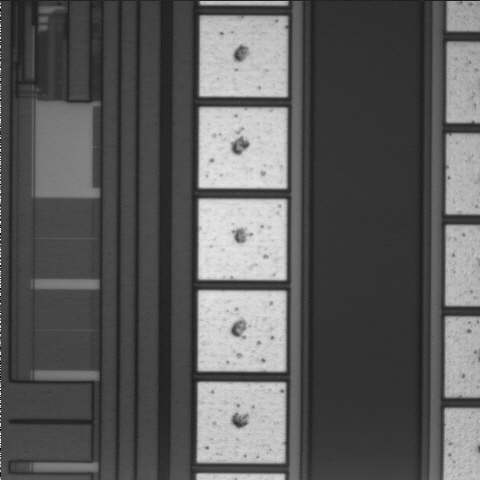pad: (198, 199, 286, 280), (197, 382, 285, 463), (199, 108, 287, 188), (198, 291, 286, 371), (200, 17, 287, 97)
